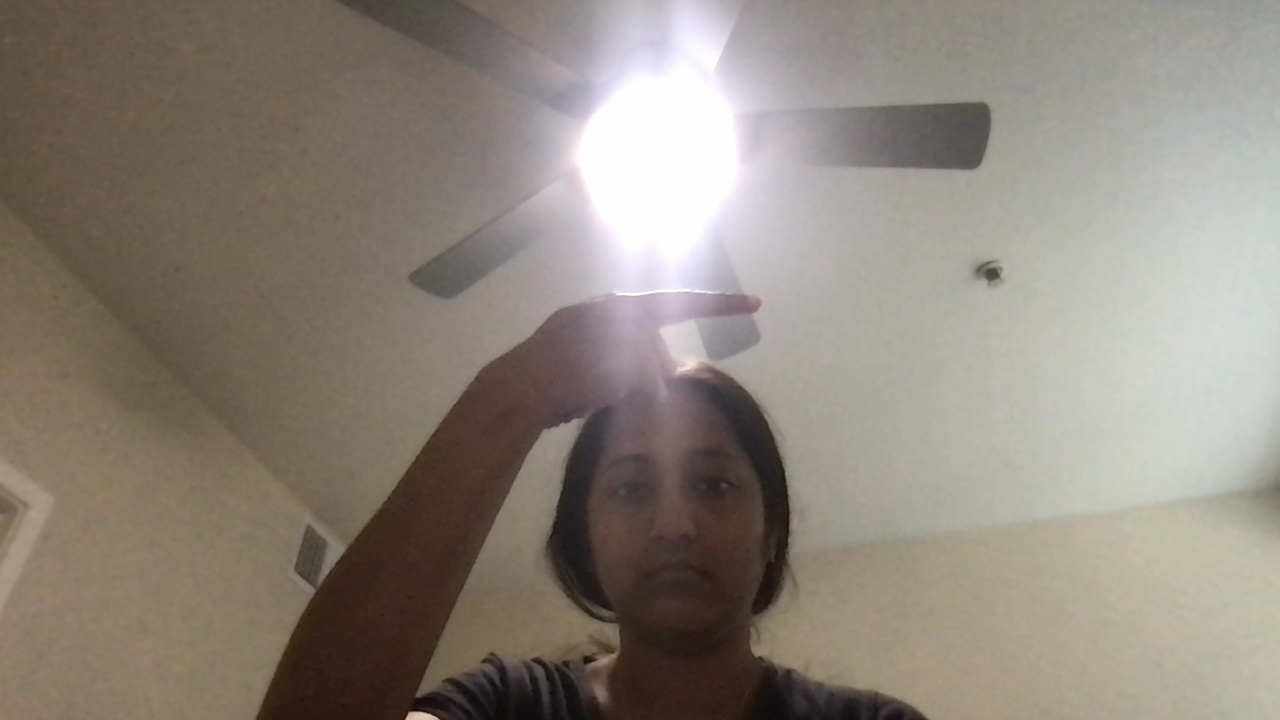g: (558, 287, 769, 413)
